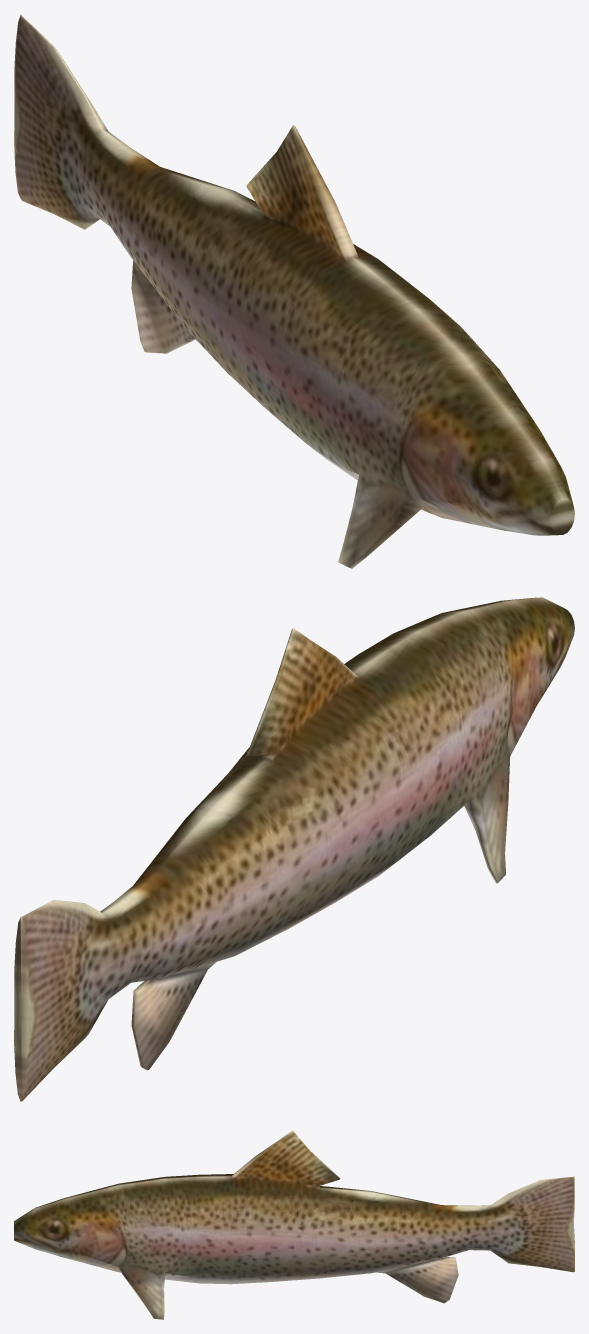
File: fish3.obj
3 renders of one model, top to bottom at view 1: azimuth 30°, elevation 25°; view 2: azimuth 150°, elevation 25°; view 3: azimuth 270°, elevation 25°, orthographic. The views are drawn at different scales.
Parts seen in each view (by area): view 1: Cylinder; view 2: Cylinder; view 3: Cylinder.
Boxes of the visible parts, left/top/right/bottom form: Cylinder: left=14, top=14, right=574, bottom=568; Cylinder: left=14, top=597, right=574, bottom=1101; Cylinder: left=14, top=1130, right=574, bottom=1319.
Bounding box in the file's own units: 1.41 × 2.8 × 8.2.
